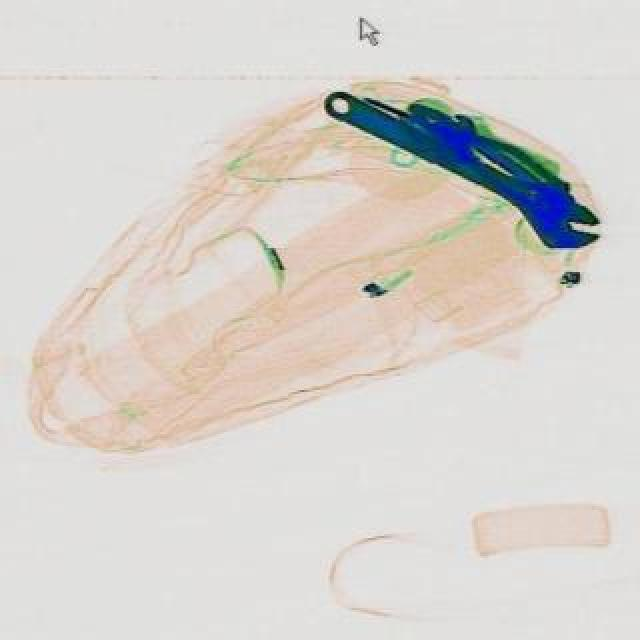scissors: (314, 68, 610, 264)
wrench: (392, 84, 572, 216)
